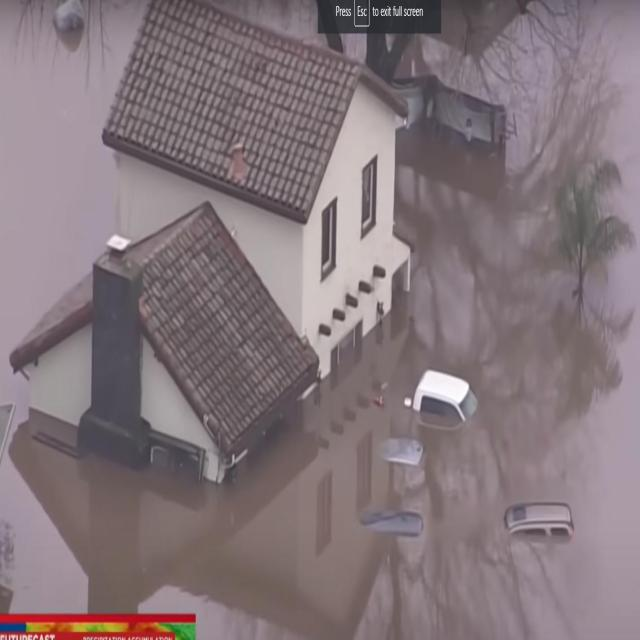flood: (0, 0, 640, 637), (210, 0, 327, 45), (342, 34, 367, 60)
house: (100, 0, 415, 376), (90, 183, 320, 486)
